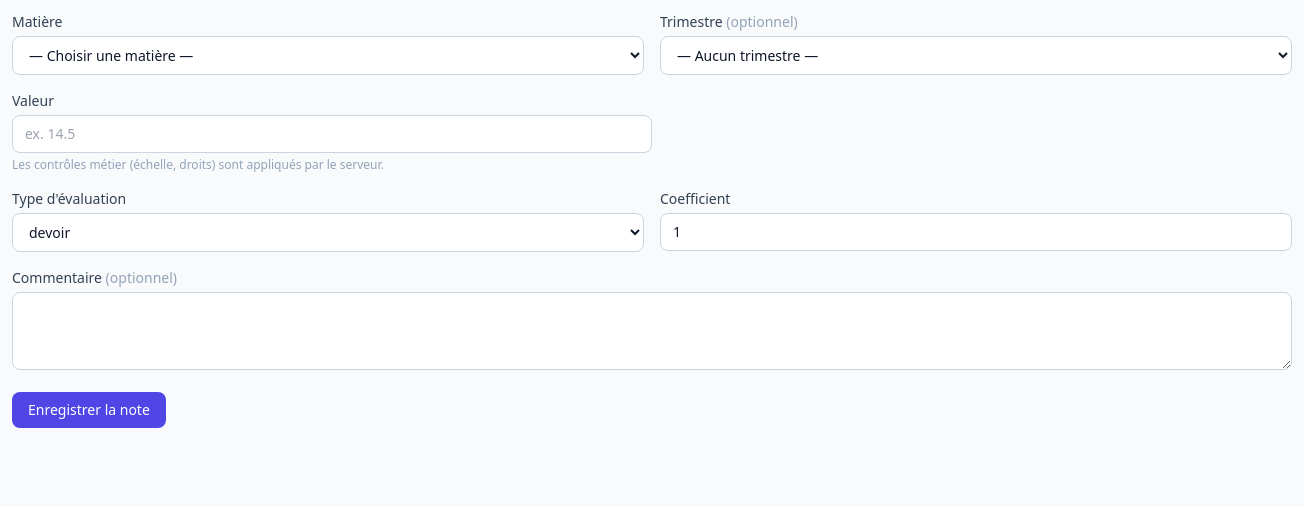
FormulaireSaisieNote › affiche l'erreur renvoyée par l'API au lieu du succès
Expected: the number field labelled "Valeur" is shown, [12, 115, 652, 153]
Select "Maths (MAT)" in the dropdown labelled "Matière" at (328, 56), box [12, 36, 644, 75]
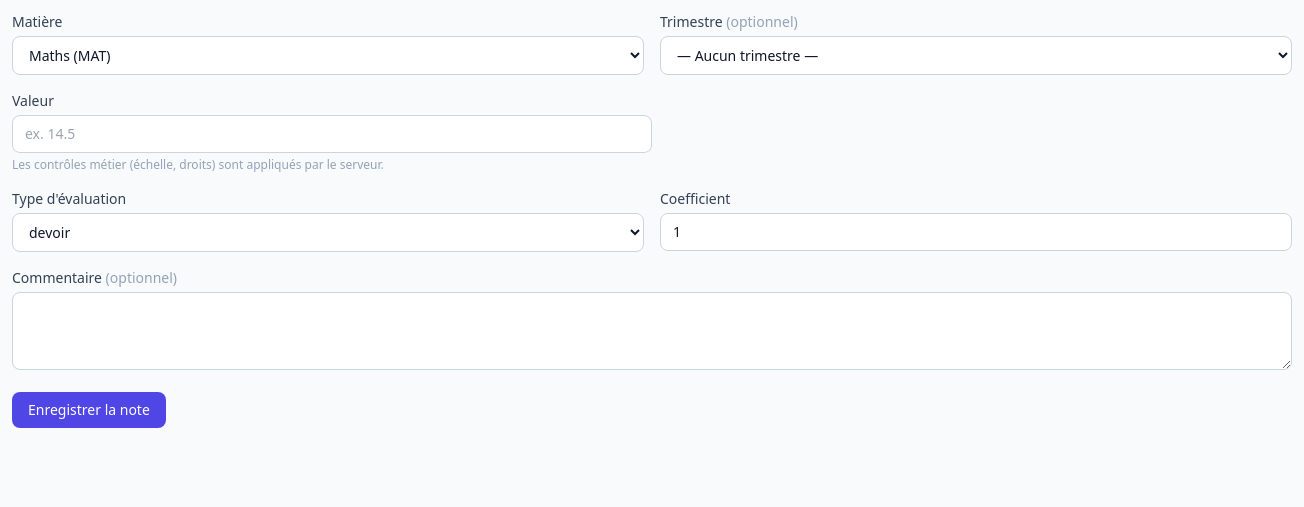
Type "30" into the number field labelled "Valeur" at (332, 134), box [12, 115, 652, 153]
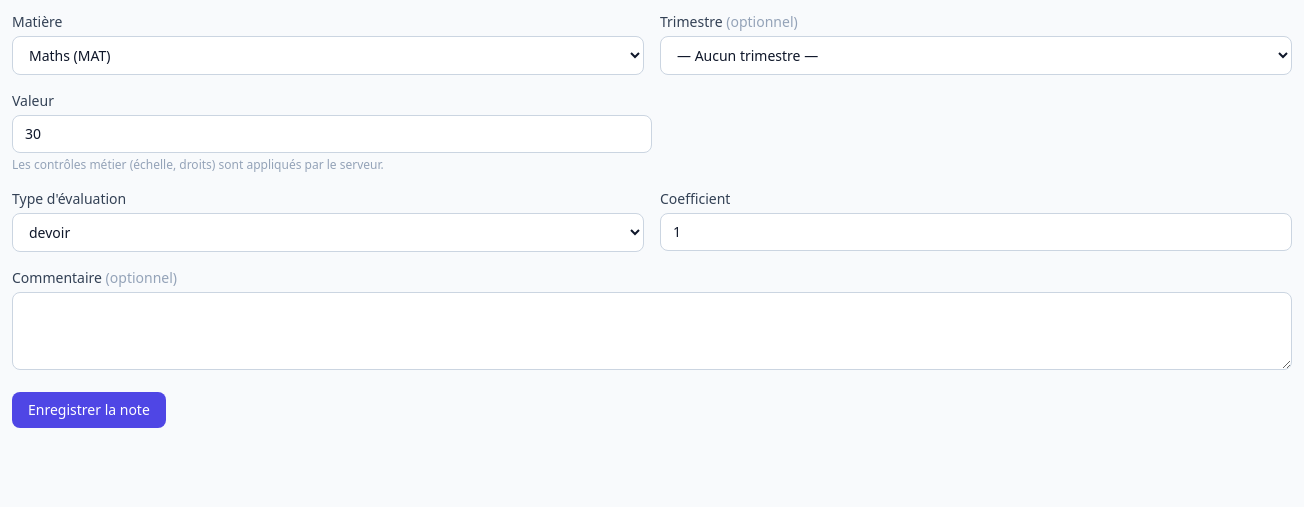
Submit the form labelled "Matière"
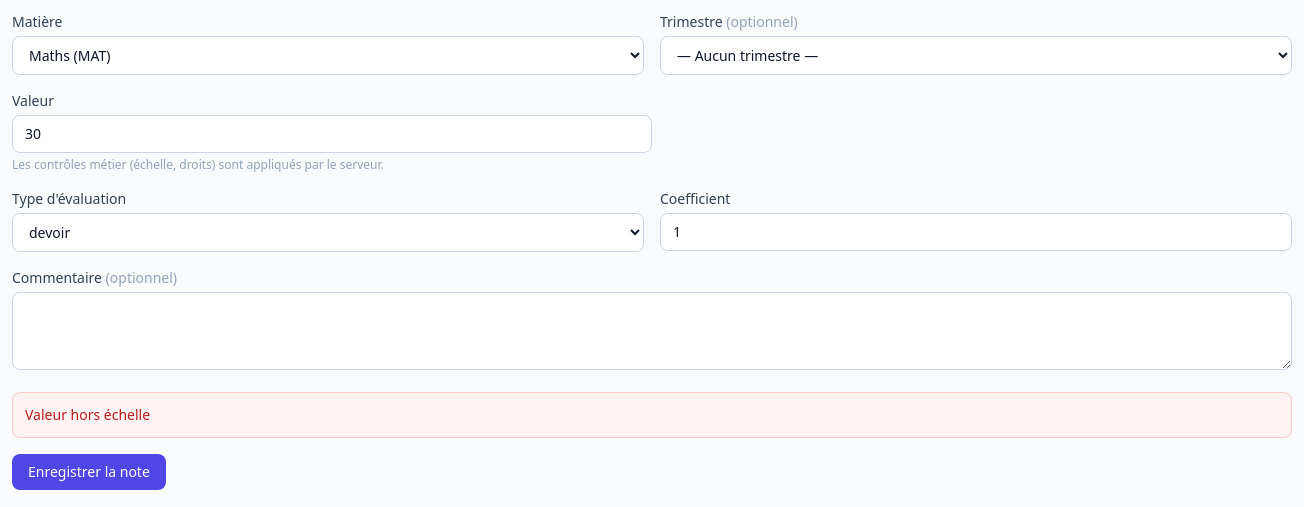
Expected: the text "Valeur hors échelle" is shown, [12, 392, 1292, 438]
